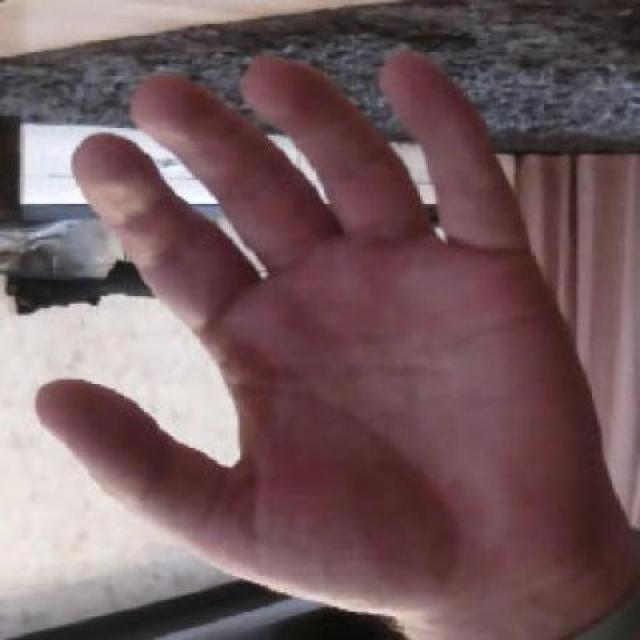Open Hand: (32, 48, 640, 639)
